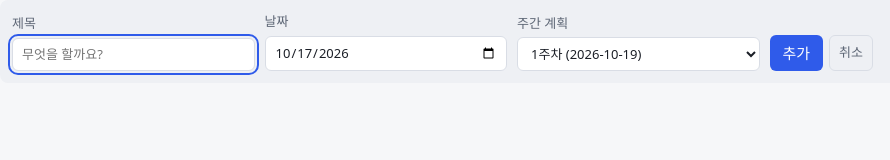
TodoForm › 빈 제목은 거부한다
This screenshot has width=890, height=160.
What coordinates should you click on to do the following:
click the button "추가"
I would click on:
 (796, 53)
Its box is [770,34,823,71].
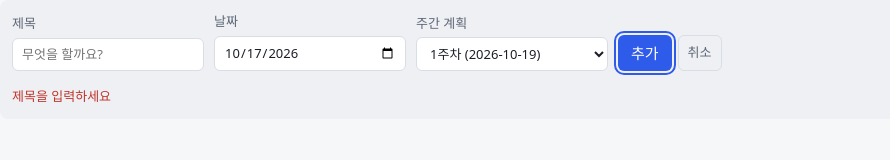
Expected: the message reads "제목을 입력하세요", [12,87,111,105]
